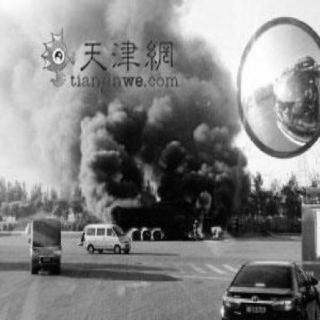Fire: (191, 220, 221, 239)
